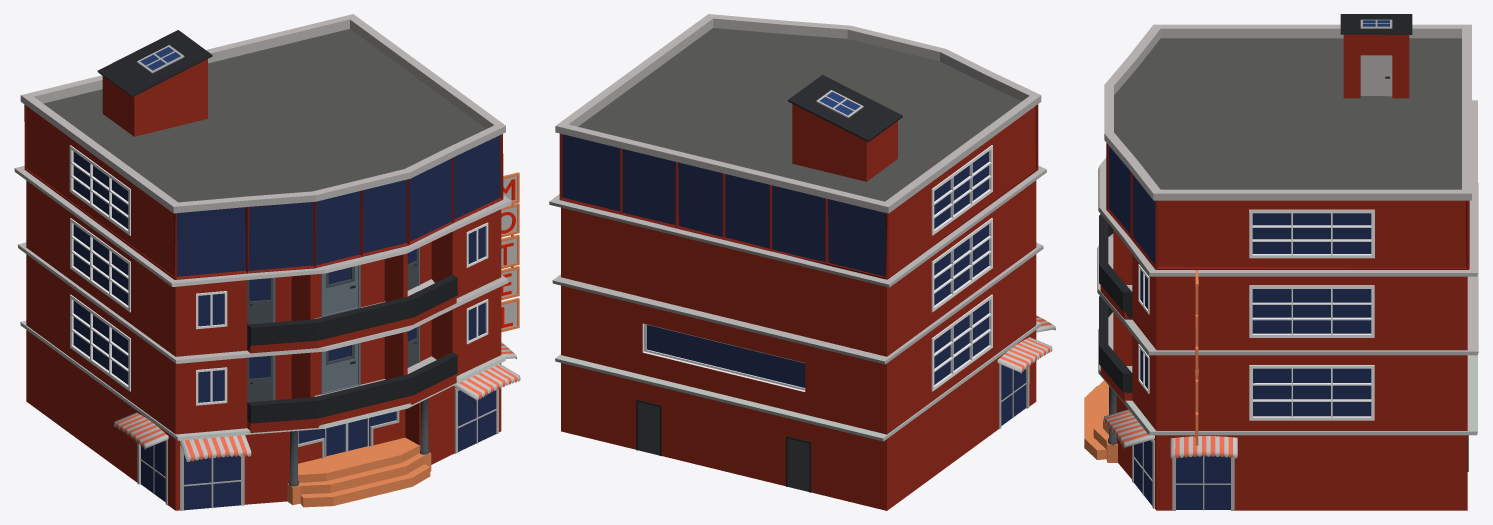
The model's file is Motel_1.fbx.
3 views of the same model, side by side, from view 1: azimuth 30°, elevation 25°; view 2: azimuth 150°, elevation 25°; view 3: azimuth 270°, elevation 25° (orthographic). The views are drawn at different scales.
Visible parts, largest first — view 1: Motel_1; view 2: Motel_1; view 3: Motel_1.
Boxes of the visible parts, box(x1,y1,x2,y2) form: Motel_1: box(14, 14, 520, 510); Motel_1: box(549, 14, 1055, 510); Motel_1: box(1084, 14, 1478, 510).
Size of the model in its own units: 1556 by 1390 by 1323.
